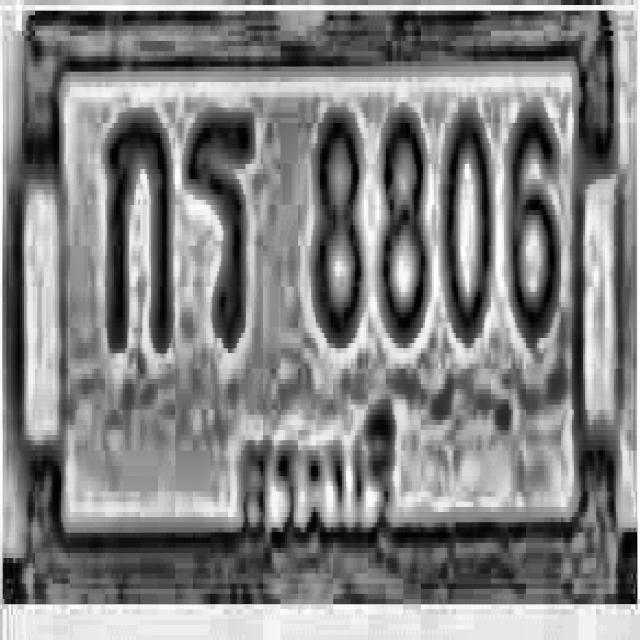license-plate: (11, 0, 616, 604)
